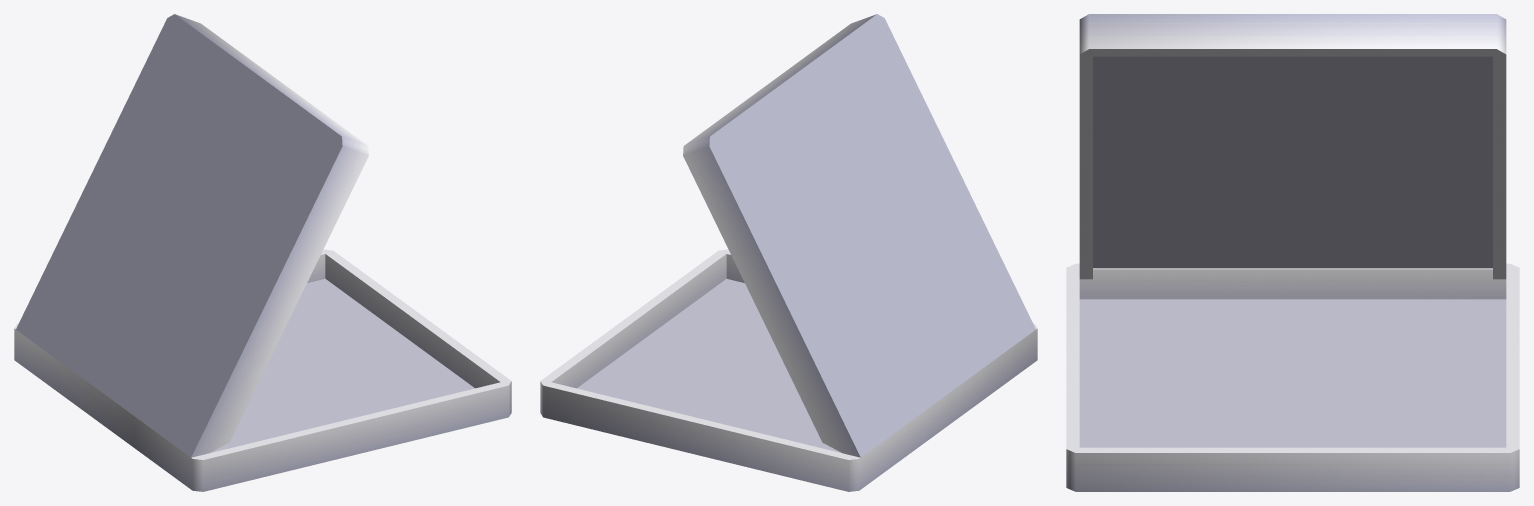
The picture shows the model from 3 angles, left to right: view 1: azimuth 30°, elevation 25°; view 2: azimuth 150°, elevation 25°; view 3: azimuth 270°, elevation 25°; orthographic projection. The views are drawn at different scales.
Parts seen in each view (by area): view 1: lid, pizza-box; view 2: lid, pizza-box; view 3: lid, pizza-box.
Boxes of the visible parts, x1,y1,x2,y2 form: lid: (16, 14, 368, 457); pizza-box: (14, 249, 511, 491); lid: (683, 14, 1035, 457); pizza-box: (540, 249, 1037, 491); lid: (1079, 14, 1506, 279); pizza-box: (1066, 263, 1519, 491).
Size of the model in its own units: 0.395 by 0.3697 by 0.3992.
Materials: 1 (1 with a texture image).
